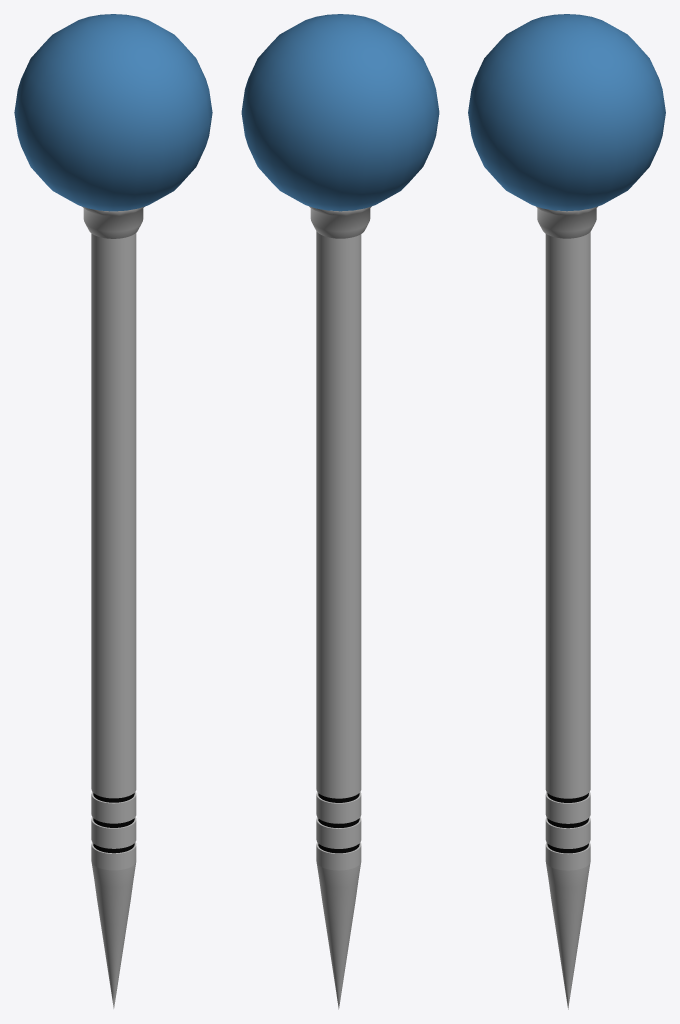
Rendered from STEELBLUE.glb.
The picture shows the model from 3 angles, left to right: view 1: azimuth 30°, elevation 25°; view 2: azimuth 150°, elevation 25°; view 3: azimuth 270°, elevation 25°; orthographic projection.
Parts seen in each view (by area): view 1: Needle, Sphere, Ball_Holder; view 2: Needle, Sphere, Ball_Holder; view 3: Needle, Sphere, Ball_Holder.
Part boxes in pixels (<box>): Needle: <box>91,233,136,1008</box>; Sphere: <box>14,14,212,211</box>; Ball_Holder: <box>82,206,144,238</box>; Needle: <box>316,231,361,1009</box>; Sphere: <box>241,14,439,211</box>; Ball_Holder: <box>309,206,371,238</box>; Needle: <box>545,232,590,1009</box>; Sphere: <box>468,14,665,211</box>; Ball_Holder: <box>536,206,597,238</box>.
Size of the model in its own units: 2.2 by 12.1 by 2.2.
